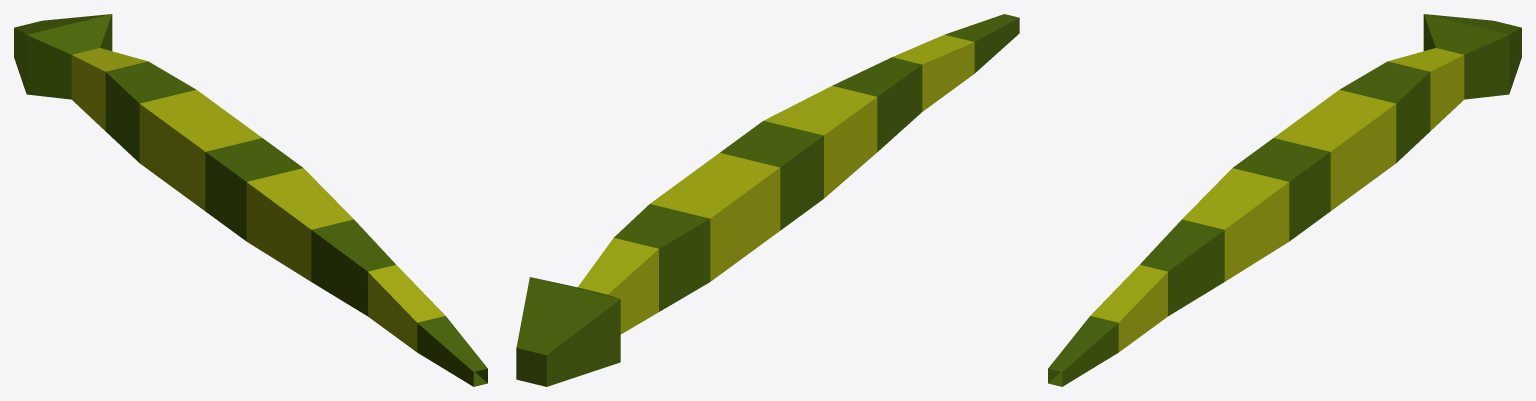
Rendered from npc_world_snake_0.obj.
The picture shows the model from 3 angles, left to right: view 1: azimuth 30°, elevation 25°; view 2: azimuth 150°, elevation 25°; view 3: azimuth 330°, elevation 25°; orthographic projection. The views are drawn at different scales.
Bounding box in the file's own units: 0.1875 × 0.125 × 1.72.
